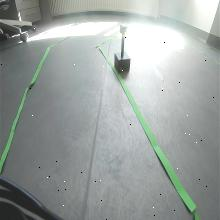green: (120, 24, 128, 36)
